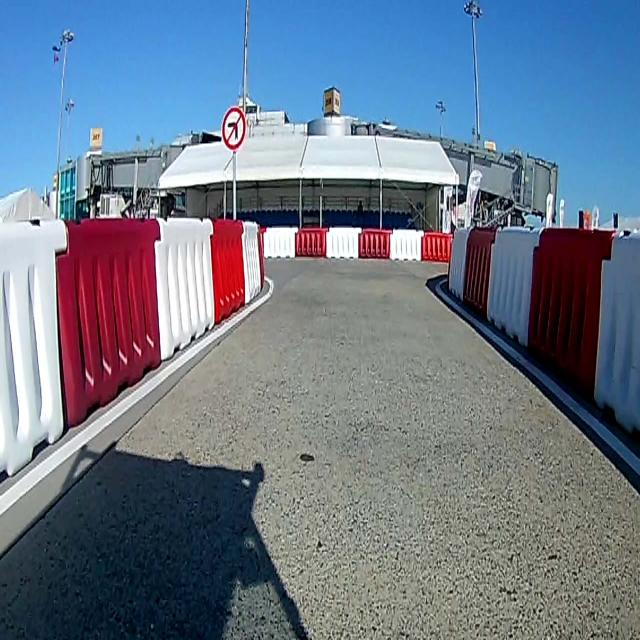soladonulmez: (222, 108, 246, 148)
